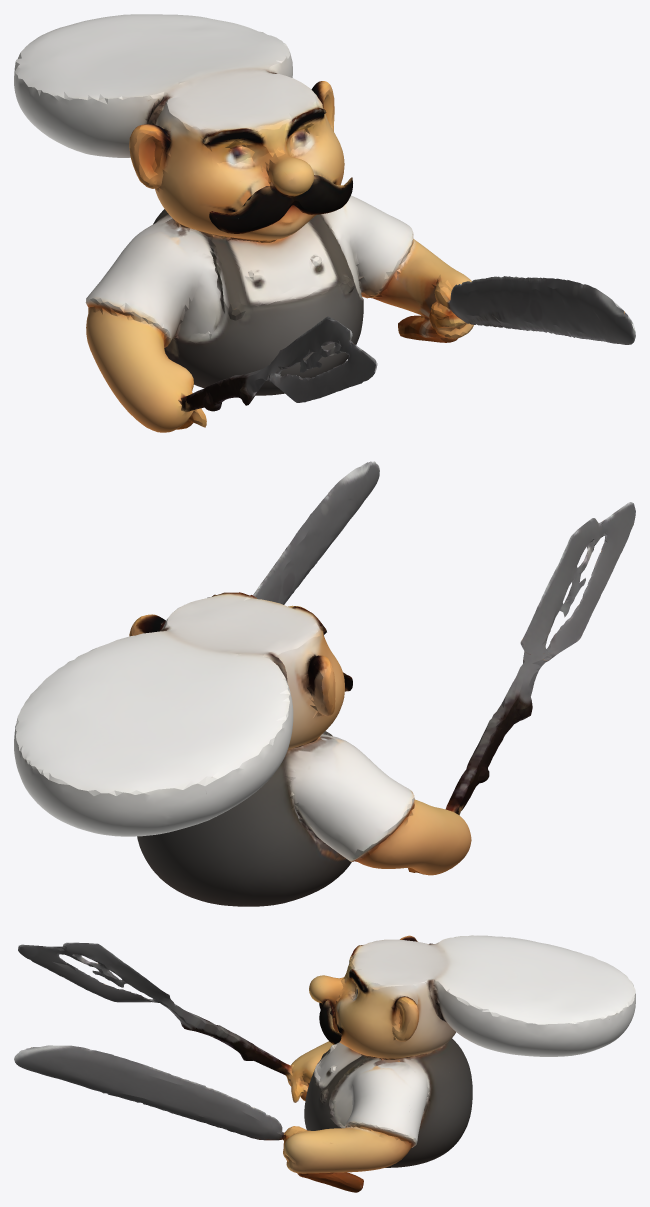
File: chef.glb
The picture shows the model from 3 angles, top to bottom: view 1: azimuth 30°, elevation 25°; view 2: azimuth 150°, elevation 25°; view 3: azimuth 270°, elevation 25°; orthographic projection. The views are drawn at different scales.
Visible parts, largest first — view 1: chef; view 2: chef; view 3: chef.
Boxes of the visible parts, x1=… form: chef: x1=14, y1=14, x2=635, y2=432; chef: x1=14, y1=461, x2=635, y2=906; chef: x1=14, y1=935, x2=635, y2=1192.
Size of the model in its own units: 0.8678 by 0.6283 by 1.9.
Materials: 1 (1 with a texture image).
